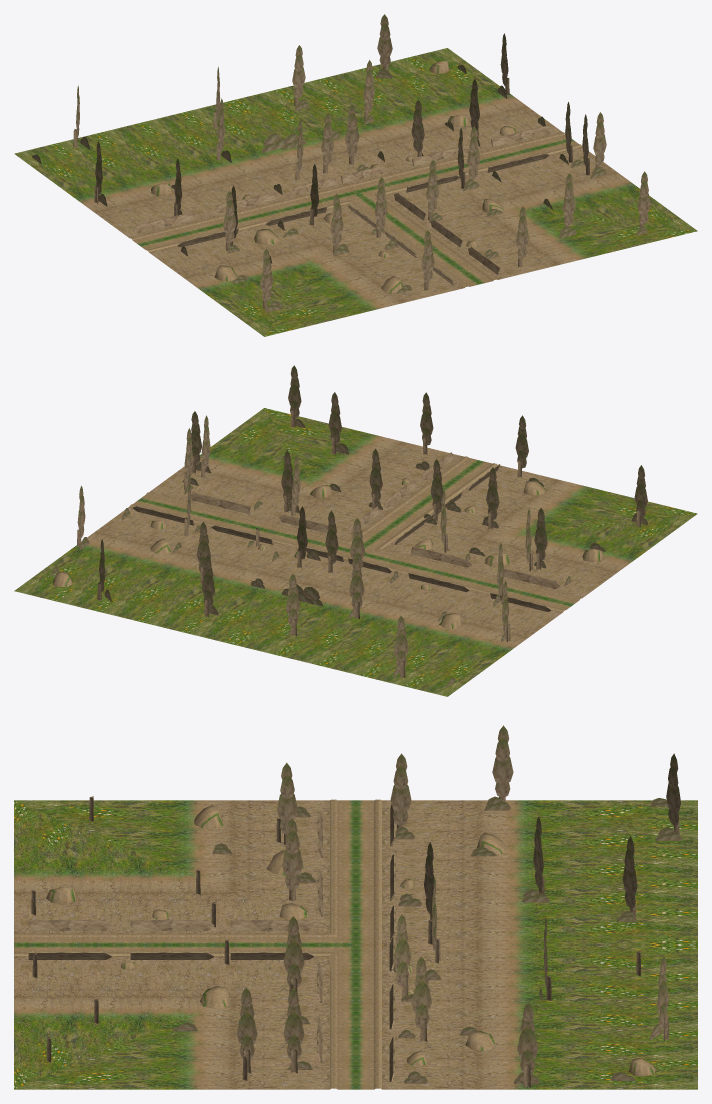
Rendered from VillageRoad01_Both.FBX.
3 views of the same model, one above another, from view 1: azimuth 30°, elevation 25°; view 2: azimuth 150°, elevation 25°; view 3: azimuth 270°, elevation 25° (orthographic). The views are drawn at different scales.
Visible parts, largest first — view 1: Road, Tree (×14), Fence (×2); view 2: Road, Tree (×15), Fence (×2); view 3: Road, Tree (×14), Fence (×5).
Boxes of the visible parts, left/top/right/bottom form: Road: left=14, top=48, right=697, bottom=336; Tree (×14): left=223, top=14, right=650, bottom=309; Fence (×2): left=132, top=125, right=552, bottom=232; Road: left=14, top=408, right=697, bottom=696; Tree (×15): left=201, top=365, right=647, bottom=678; Fence (×2): left=190, top=493, right=472, bottom=567; Road: left=14, top=799, right=697, bottom=1089; Tree (×14): left=236, top=725, right=680, bottom=1087; Fence (×5): left=28, top=920, right=314, bottom=959.
Size of the model in its own units: 10000 by 1446 by 10000.
